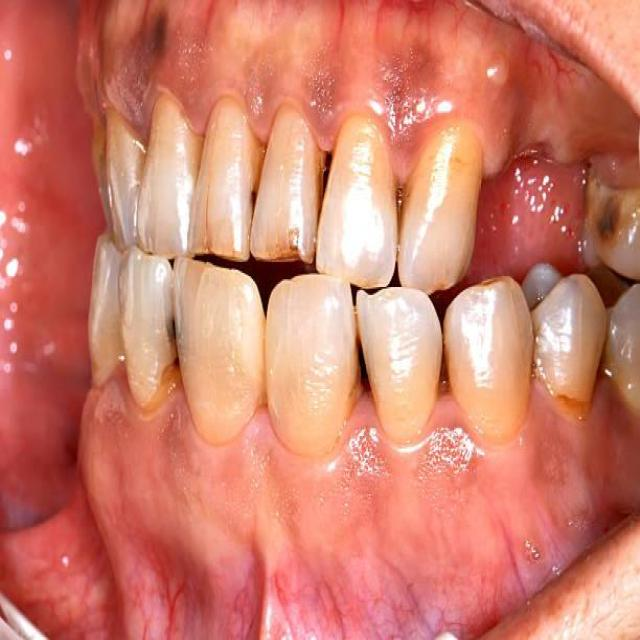caries: (340, 327, 377, 414), (154, 290, 193, 365), (426, 329, 460, 402), (268, 209, 311, 259)
